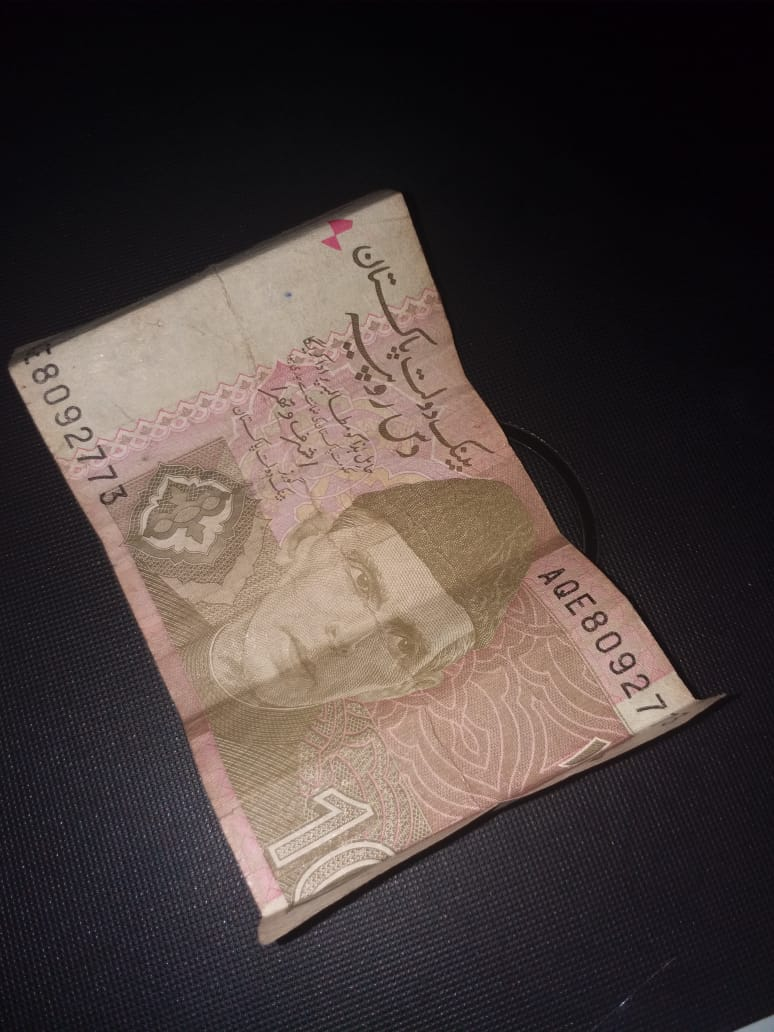10 rupee: (7, 180, 725, 942)
